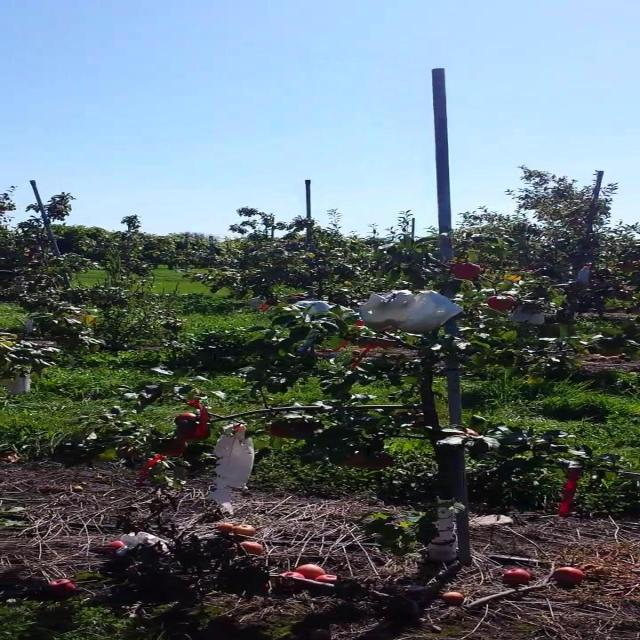apple: (454, 264, 484, 280), (184, 424, 213, 440), (340, 452, 368, 468), (490, 296, 517, 312), (163, 440, 188, 457), (177, 412, 212, 423), (369, 456, 395, 469), (177, 412, 206, 423), (269, 424, 286, 438), (376, 340, 400, 349), (127, 448, 140, 459), (362, 344, 379, 351), (355, 360, 363, 367)
